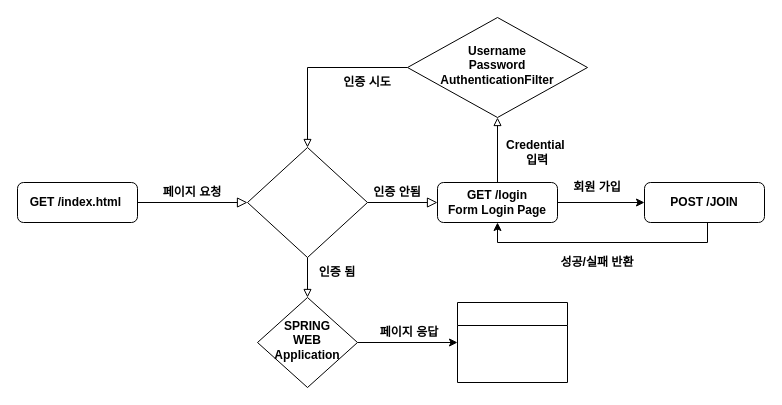
Image size: 782x405. Some labels were removed from this diagram. The box of each missing label's shape, as (x1, y1, x2, y2) in pixels:
index.html: (456, 302, 568, 382)
Security Chain Filter: (246, 146, 368, 258)
